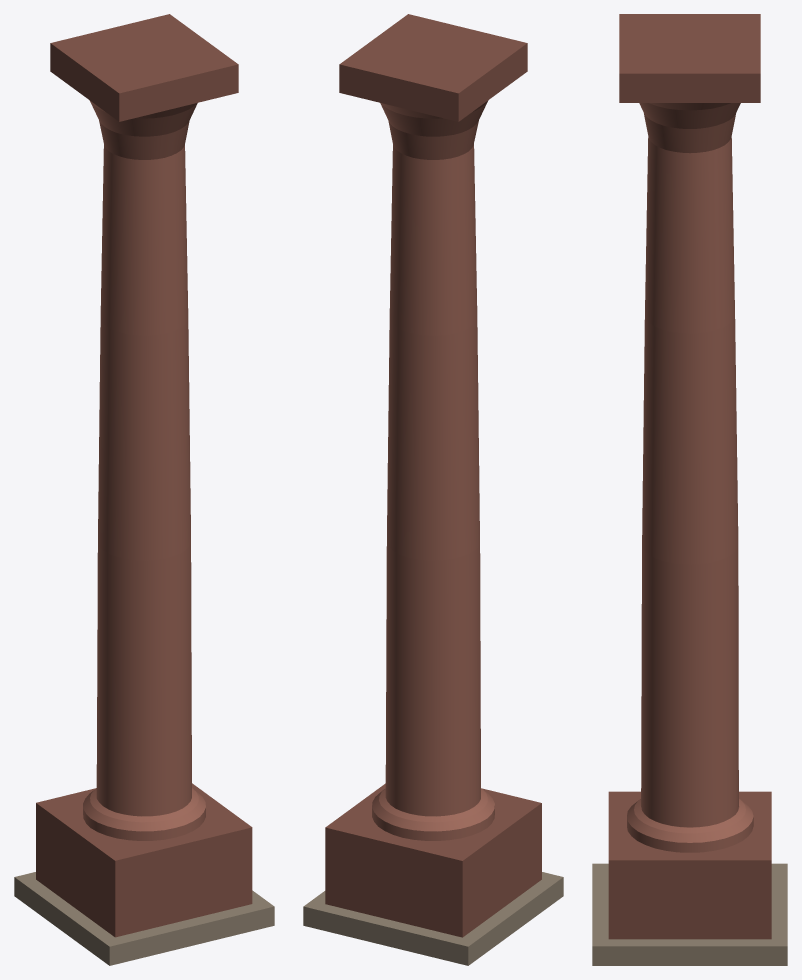
The model's file is pompeys-pillar.glb.
3 views of the same model, side by side, from view 1: azimuth 30°, elevation 25°; view 2: azimuth 150°, elevation 25°; view 3: azimuth 270°, elevation 25° (orthographic). The views are drawn at different scales.
Parts seen in each view (by area): view 1: pompeys-pillar; view 2: pompeys-pillar; view 3: pompeys-pillar.
Part boxes in pixels (x1,y1,x2,y2): pompeys-pillar: (14, 14, 274, 965); pompeys-pillar: (303, 14, 563, 965); pompeys-pillar: (592, 14, 787, 965).
Bounding box in the file's own units: 5.4 × 26.85 × 5.4.
